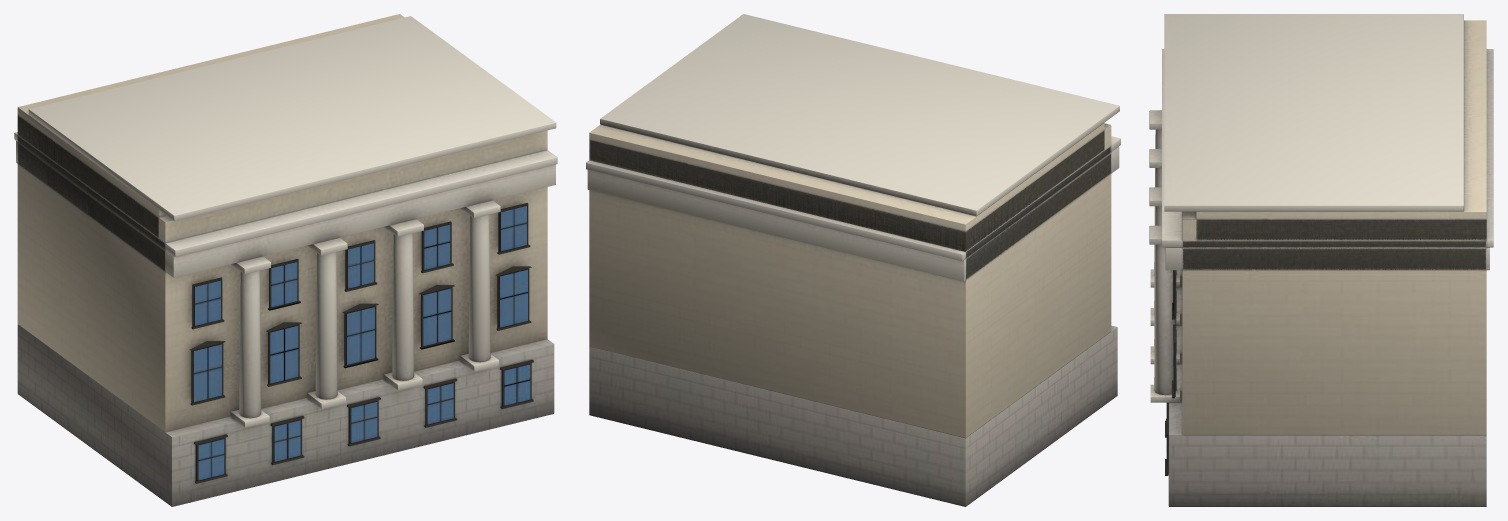
Rendered from archivos_ala.glb.
The picture shows the model from 3 angles, left to right: view 1: azimuth 30°, elevation 25°; view 2: azimuth 150°, elevation 25°; view 3: azimuth 270°, elevation 25°; orthographic projection. The views are drawn at different scales.
Visible parts, largest first — view 1: archivos_ala; view 2: archivos_ala; view 3: archivos_ala.
Boxes of the visible parts, x1,y1,x2,y2 form: archivos_ala: (14,14,557,506); archivos_ala: (586,14,1120,506); archivos_ala: (1149,14,1493,506).
Size of the model in its own units: 20 by 14.65 by 15.15.
Materials: 1 (1 with a texture image).
